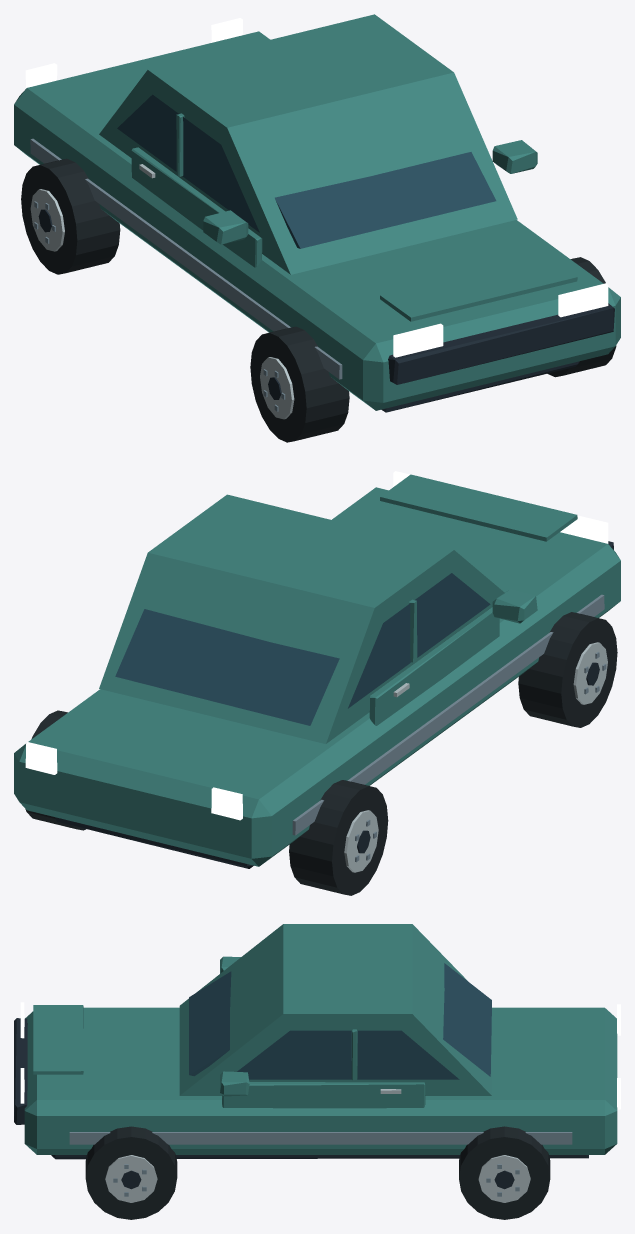
Rendered from road-sedan.lod1.glb.
3 views of the same model, one above another, from view 1: azimuth 30°, elevation 25°; view 2: azimuth 150°, elevation 25°; view 3: azimuth 270°, elevation 25° (orthographic). The views are drawn at different scales.
Parts seen in each view (by area): view 1: road-sedan__body, road-sedan__door_-1, road-sedan__wheel_steer_0_l, road-sedan__wheel_steer_1_l, road-sedan__wheel_steer_0_r; view 2: road-sedan__body, road-sedan__door_-1, road-sedan__wheel_steer_0_l, road-sedan__wheel_steer_1_l, road-sedan__wheel_steer_1_r; view 3: road-sedan__body, road-sedan__door_1, road-sedan__wheel_steer_0_r, road-sedan__wheel_steer_1_r.
Boxes of the visible parts, x1,y1,x2,y2 form: road-sedan__body: (14, 14, 620, 412); road-sedan__door_-1: (117, 94, 262, 267); road-sedan__wheel_steer_0_l: (250, 326, 349, 442); road-sedan__wheel_steer_1_l: (21, 158, 120, 274); road-sedan__wheel_steer_0_r: (547, 257, 616, 377); road-sedan__body: (14, 471, 620, 868); road-sedan__door_-1: (348, 573, 499, 725); road-sedan__wheel_steer_0_l: (518, 612, 617, 727); road-sedan__wheel_steer_1_l: (289, 780, 388, 895); road-sedan__wheel_steer_1_r: (25, 710, 86, 830); road-sedan__body: (14, 924, 620, 1159); road-sedan__door_1: (222, 1029, 459, 1108); road-sedan__wheel_steer_0_r: (85, 1126, 177, 1219); road-sedan__wheel_steer_1_r: (459, 1126, 550, 1219).
Size of the model in its own units: 2.25 by 1.55 by 4.51.
